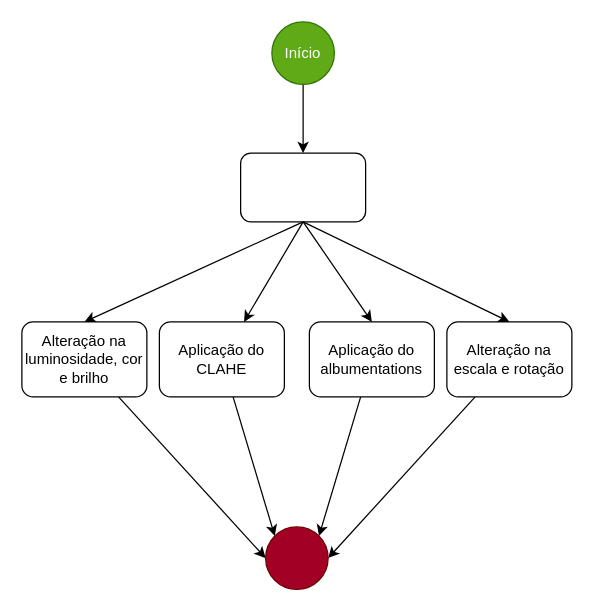
Image size: 594x611. Some labels were removed from this diagram. The centre of each missing label's shape, as x and y in pixels:
"Conjunto de imagens" goes at (302,187).
"Fim" goes at (296,557).
